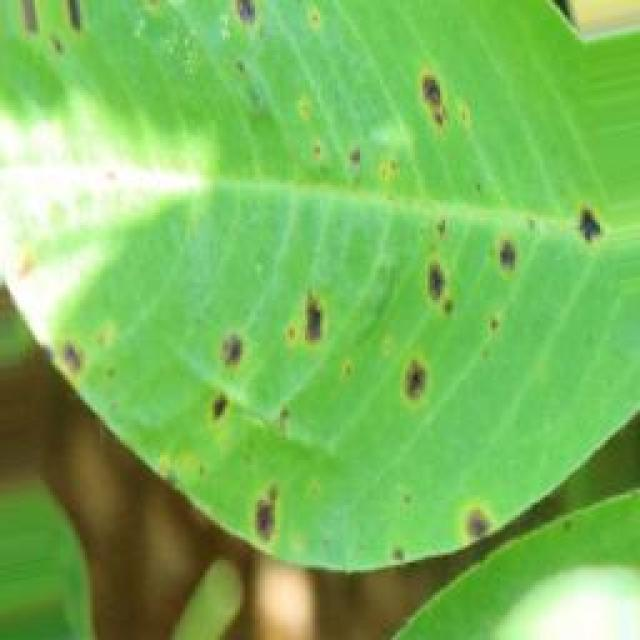Sigatoka: (215, 444, 305, 567), (392, 47, 472, 153), (8, 323, 116, 401), (197, 322, 260, 449), (0, 0, 100, 63), (562, 170, 615, 283), (287, 273, 349, 365), (414, 230, 469, 332), (433, 467, 498, 550), (472, 208, 534, 294), (380, 331, 442, 415), (225, 0, 278, 47)
